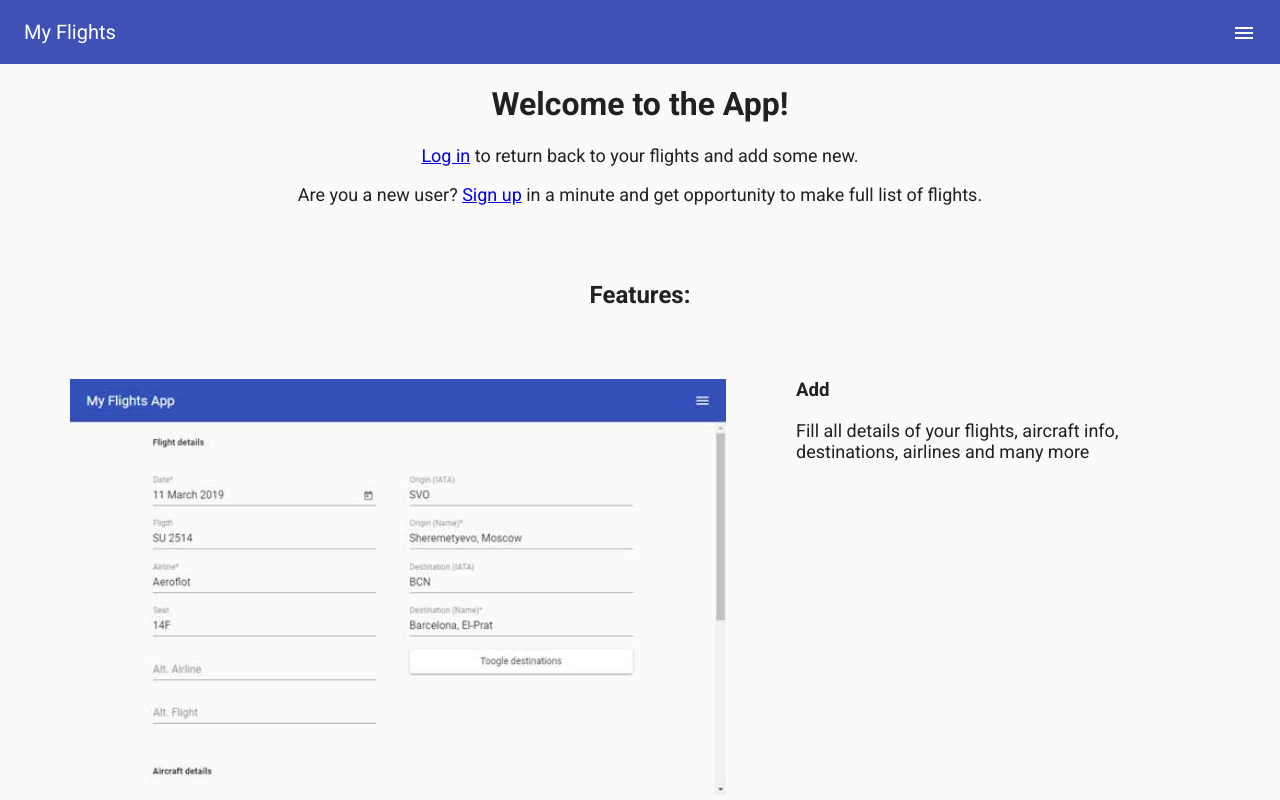
Test: Header › should display sidenav after burger click and hidden after one more click
What coordinates should you click on to do the following:
click the button with test id "burger"
I would click on:
 (1244, 32)
Its box is x1=1224 y1=12 x2=1264 y2=52.
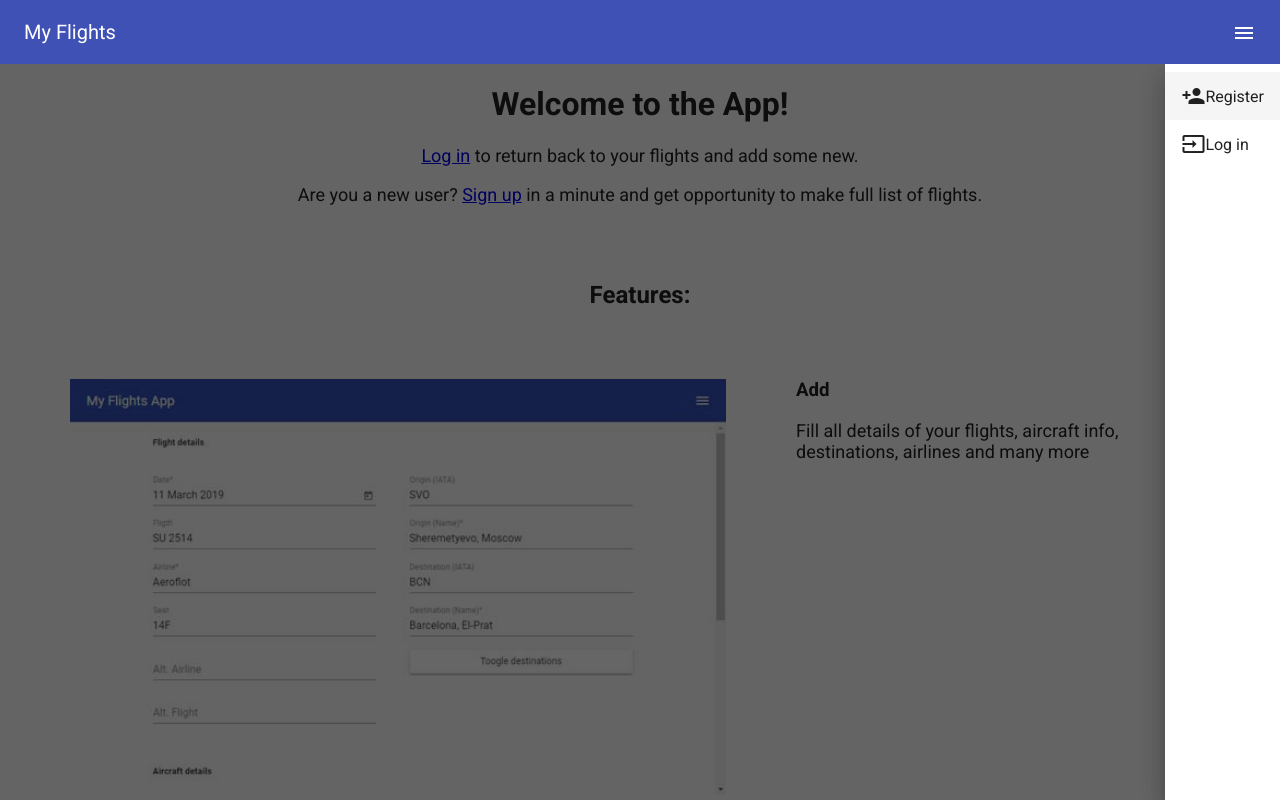
Expected: the element with test id "sidenav" is shown, x1=1165 y1=64 x2=1279 y2=799
